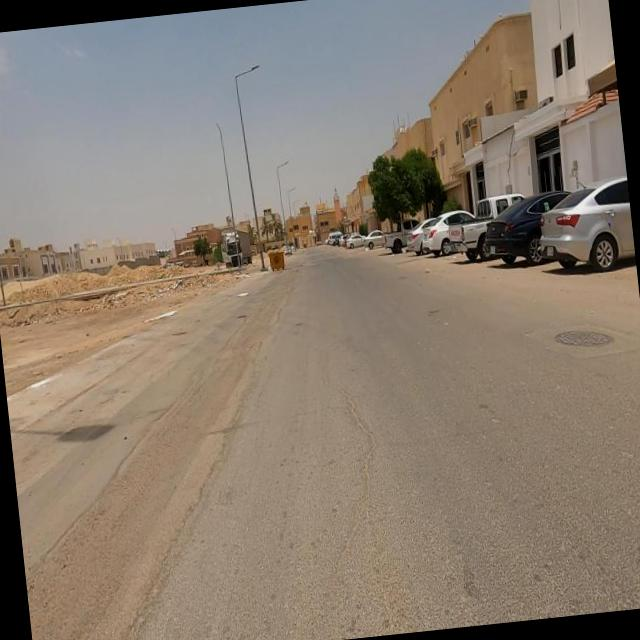debris: (150, 264, 202, 312), (234, 268, 266, 316), (149, 292, 187, 330), (414, 246, 440, 288)
